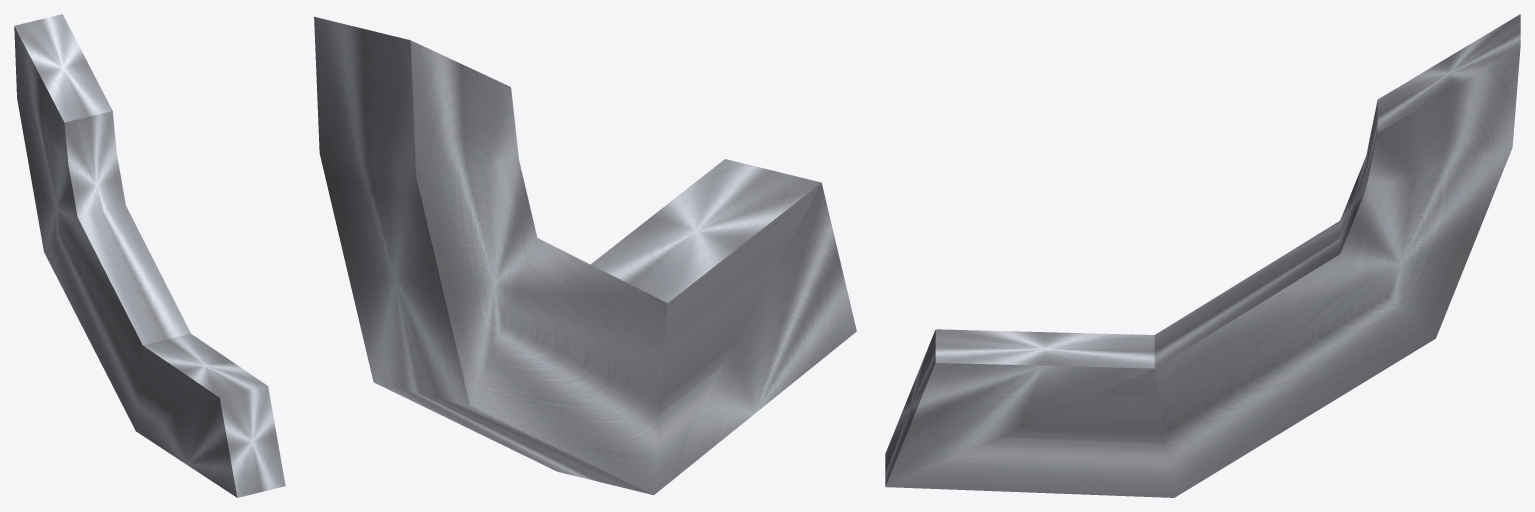
Rendered from ra_right.obj.
The picture shows the model from 3 angles, left to right: view 1: azimuth 30°, elevation 25°; view 2: azimuth 150°, elevation 25°; view 3: azimuth 270°, elevation 25°; orthographic projection. The views are drawn at different scales.
Parts seen in each view (by area): view 1: Box04; view 2: Box04; view 3: Box04.
Boxes of the visible parts, bbox=[...] form: Box04: bbox=[14, 14, 285, 497]; Box04: bbox=[314, 16, 856, 495]; Box04: bbox=[885, 14, 1520, 497].
Size of the model in its own units: 1.85 by 11.57 by 14.78.
Materials: 1 (1 with a texture image).
